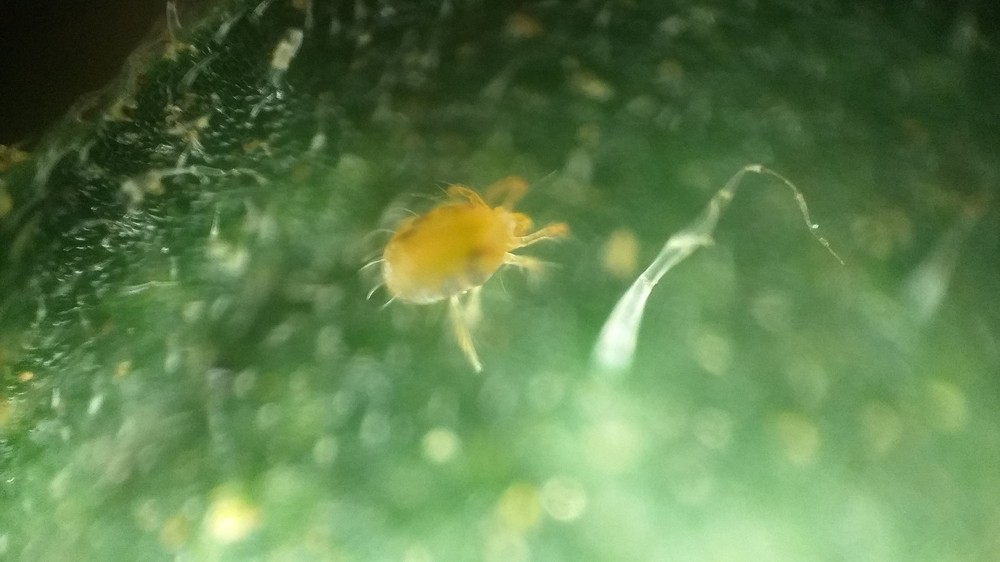Aracnido Rojo: (334, 152, 590, 378)
